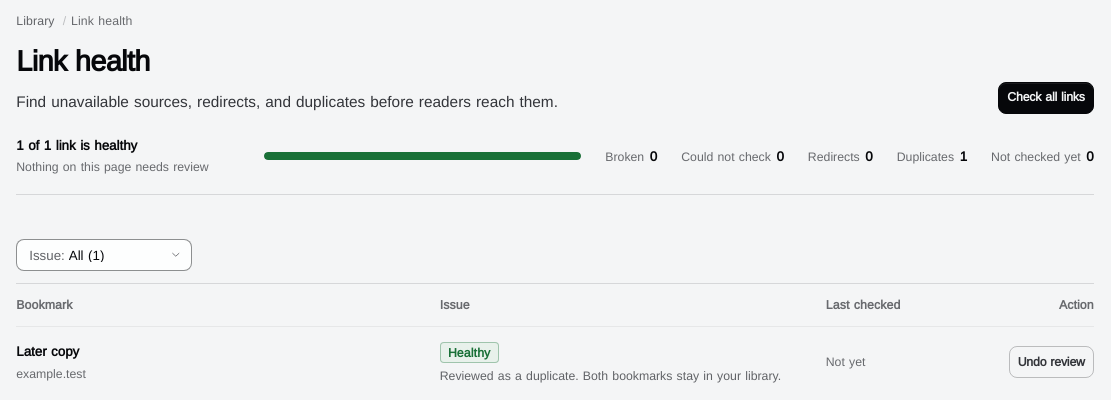
Test case: LibraryHealth duplicate review and cannot-probe display › undoes a review with the current relation ETag
Click the button "Undo review": coordinates (1051, 362) [1009,346,1094,378]
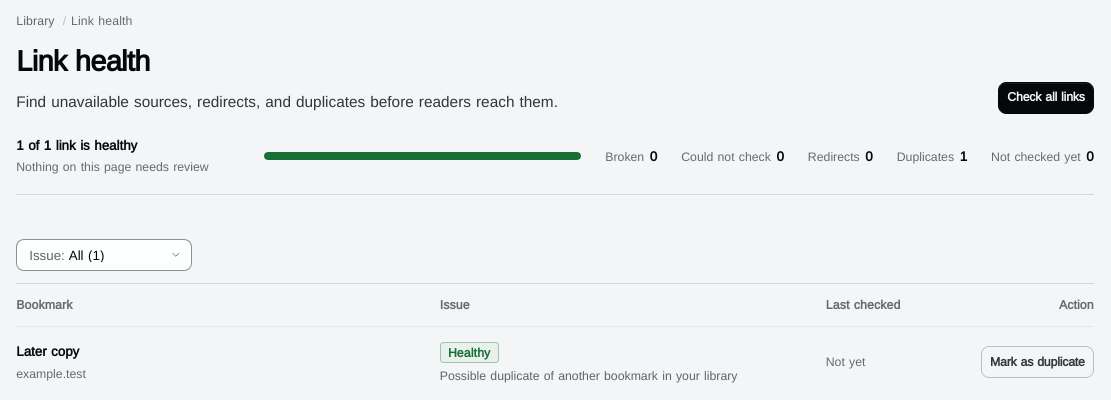
Result: the text "Possible duplicate of another bookmark" is shown at [440,368,738,383]
